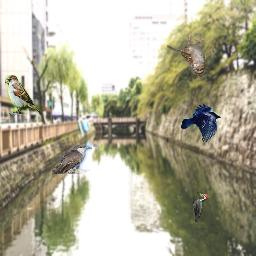Crow: (181, 103, 221, 142)
Cuckoo: (52, 145, 92, 174)
Sparrow: (167, 35, 205, 75), (5, 75, 42, 115)
Woodpecker: (193, 192, 209, 222)
